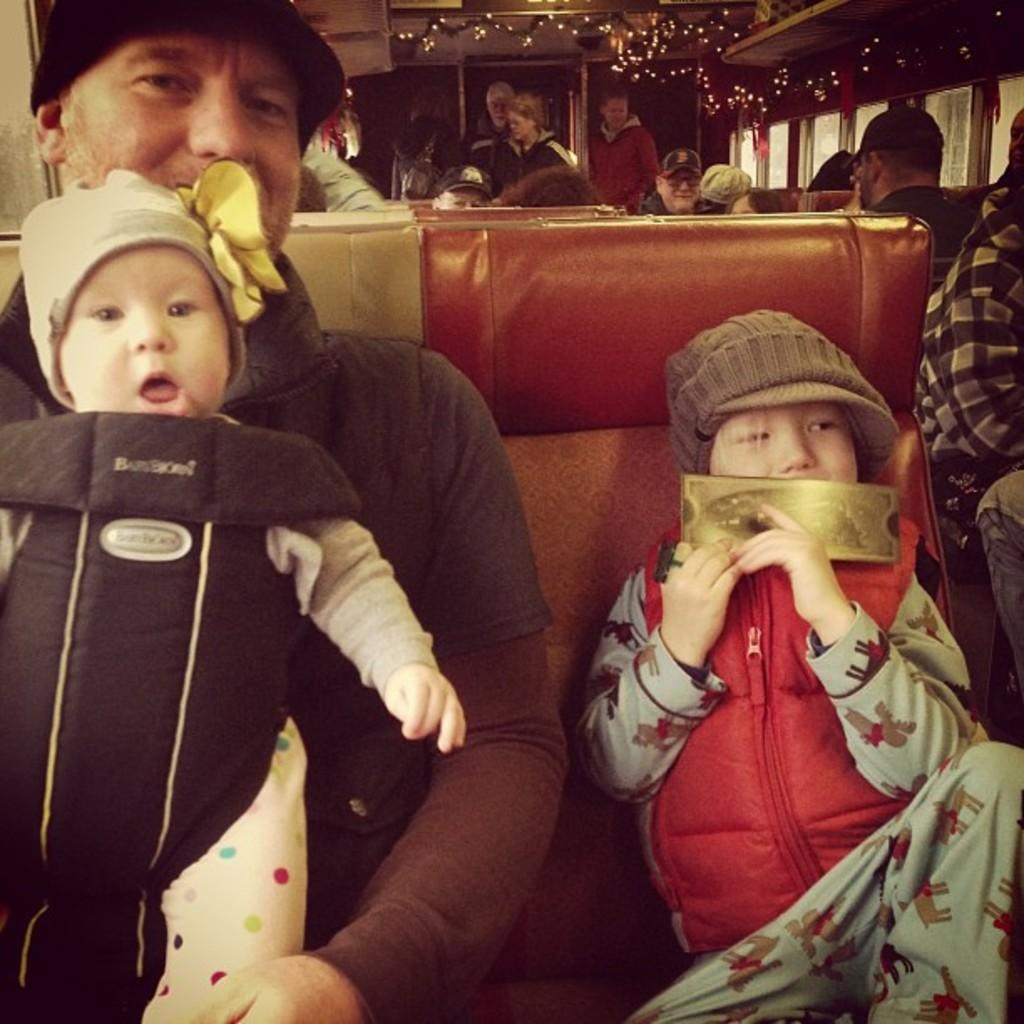Hat: (662, 305, 898, 481), (843, 106, 952, 166), (430, 165, 492, 200), (652, 146, 704, 180)
